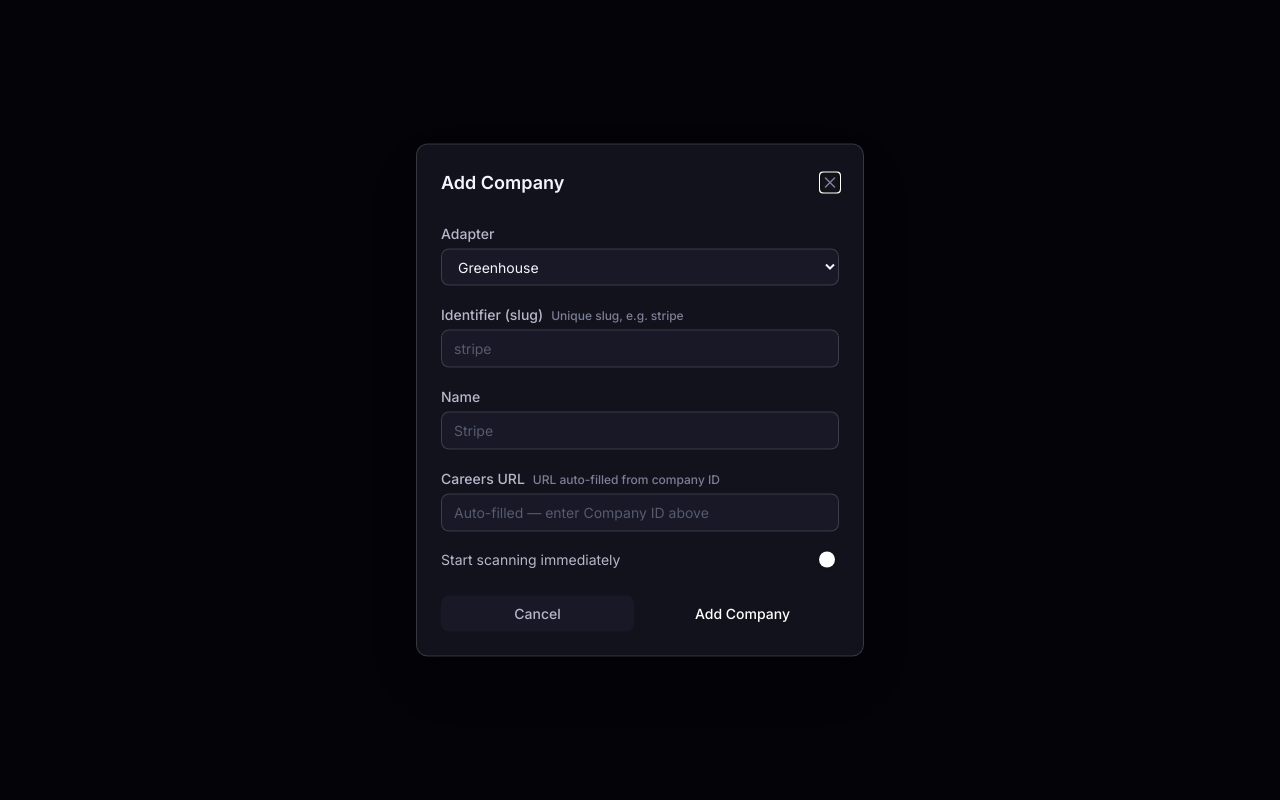
Test case: AddCompanyModal › shows inline error for empty or slash-containing site, accepts alphanumeric+underscore
Select "Workday" in the dropdown at point(640, 267), box top-left (441, 248), bottom-right (839, 286)
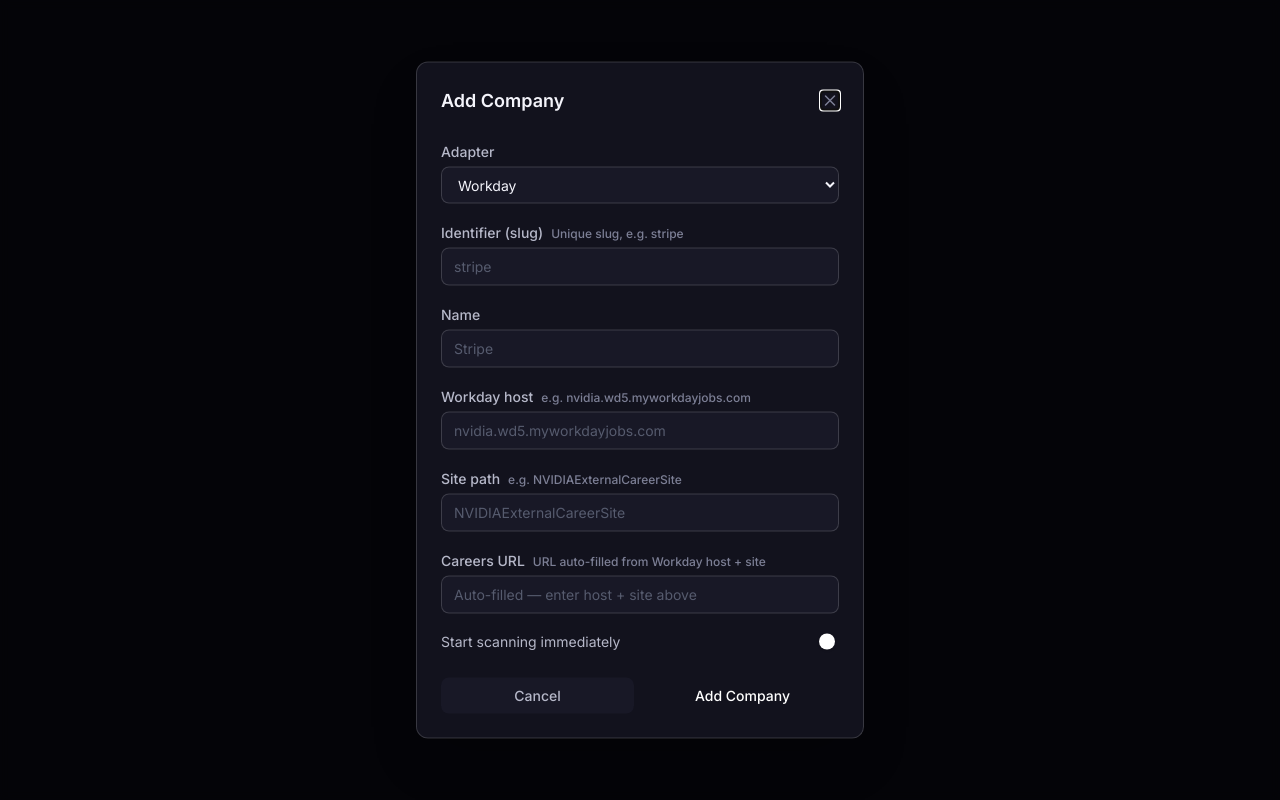
Type "temp" into the field named "Workday site path" at point(640, 512), box top-left (441, 494), bottom-right (839, 532)
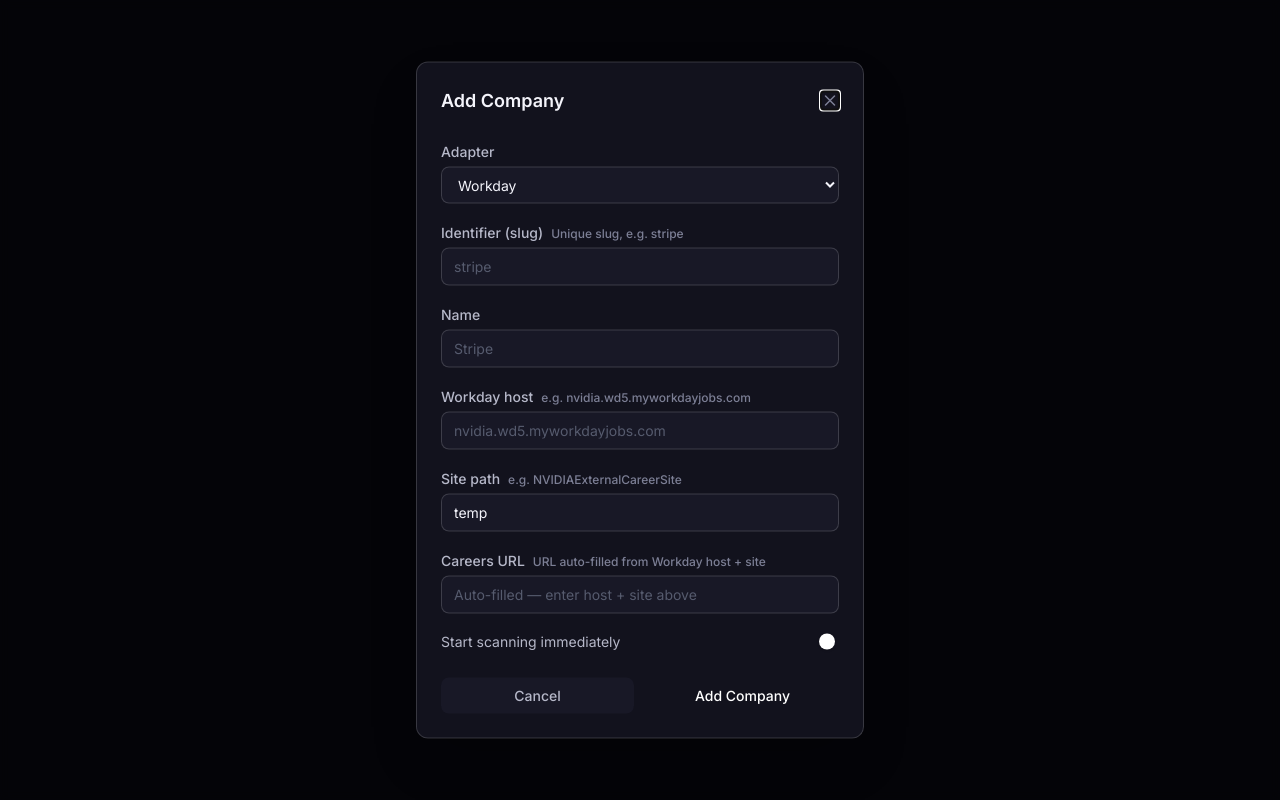
Clear the field named "Workday site path" at point(640, 512), box top-left (441, 494), bottom-right (839, 532)
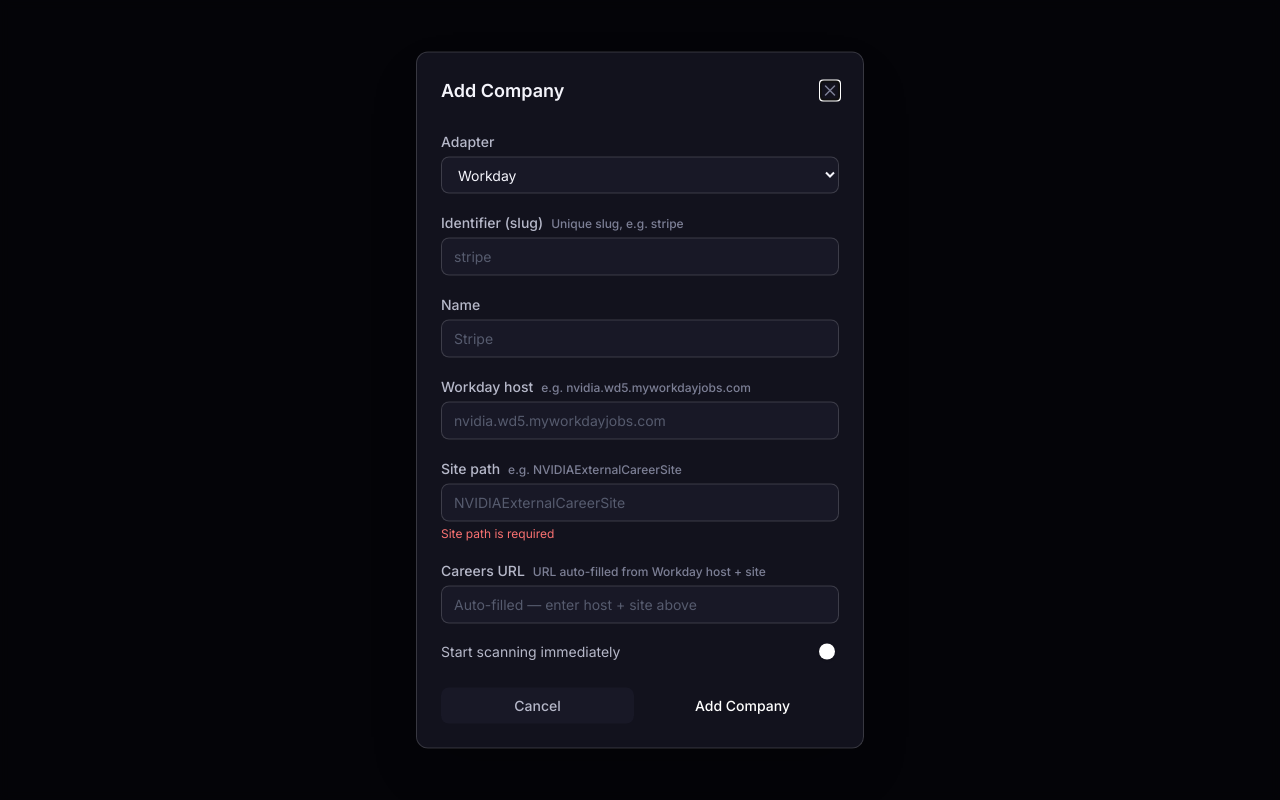
expect the text "Site path is required" is shown: met, box top-left (441, 526), bottom-right (554, 540)
Type "has/slash" into the field named "Workday site path" at point(640, 502), box top-left (441, 484), bottom-right (839, 522)
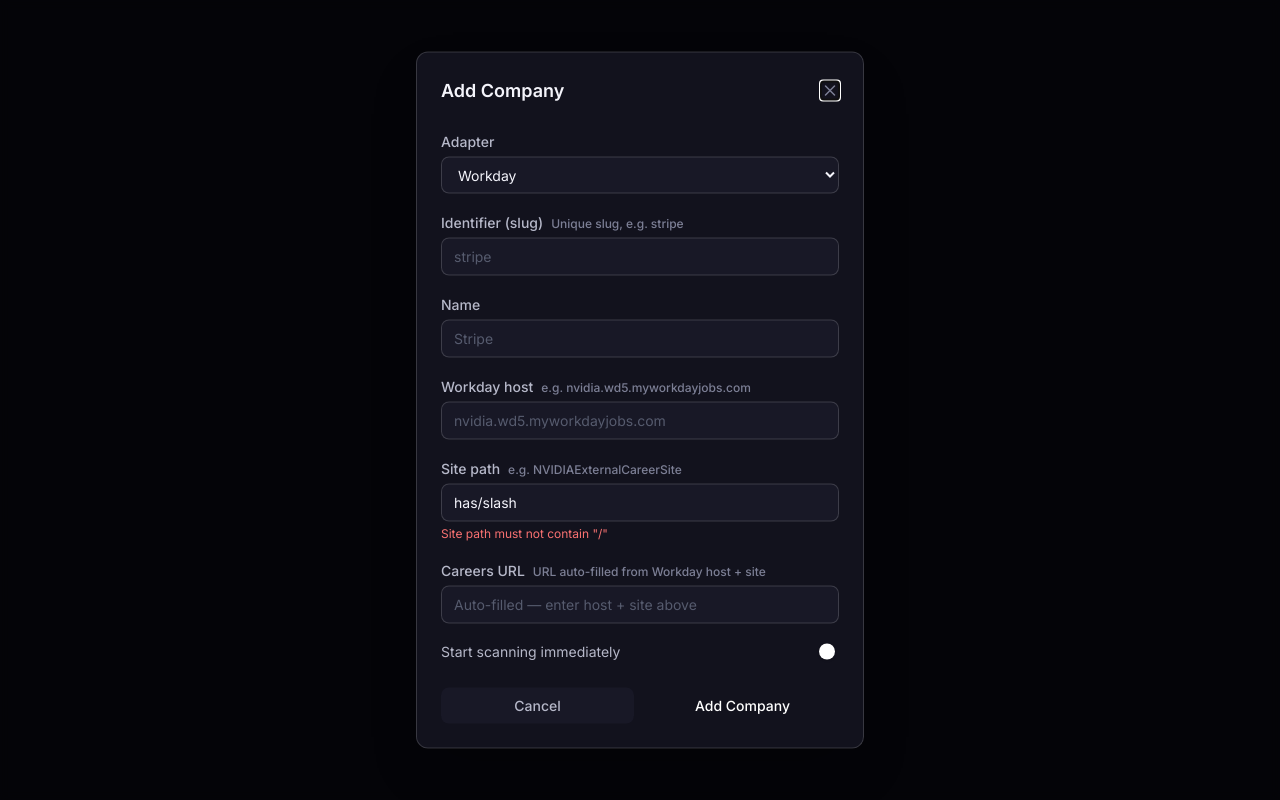
expect the text "Site path must not contain \"/\"" is shown: met, box top-left (441, 526), bottom-right (608, 540)
Replace the text in the field named "Workday site path" with "NVIDIA_External_Career_Site" at point(640, 502), box top-left (441, 484), bottom-right (839, 522)
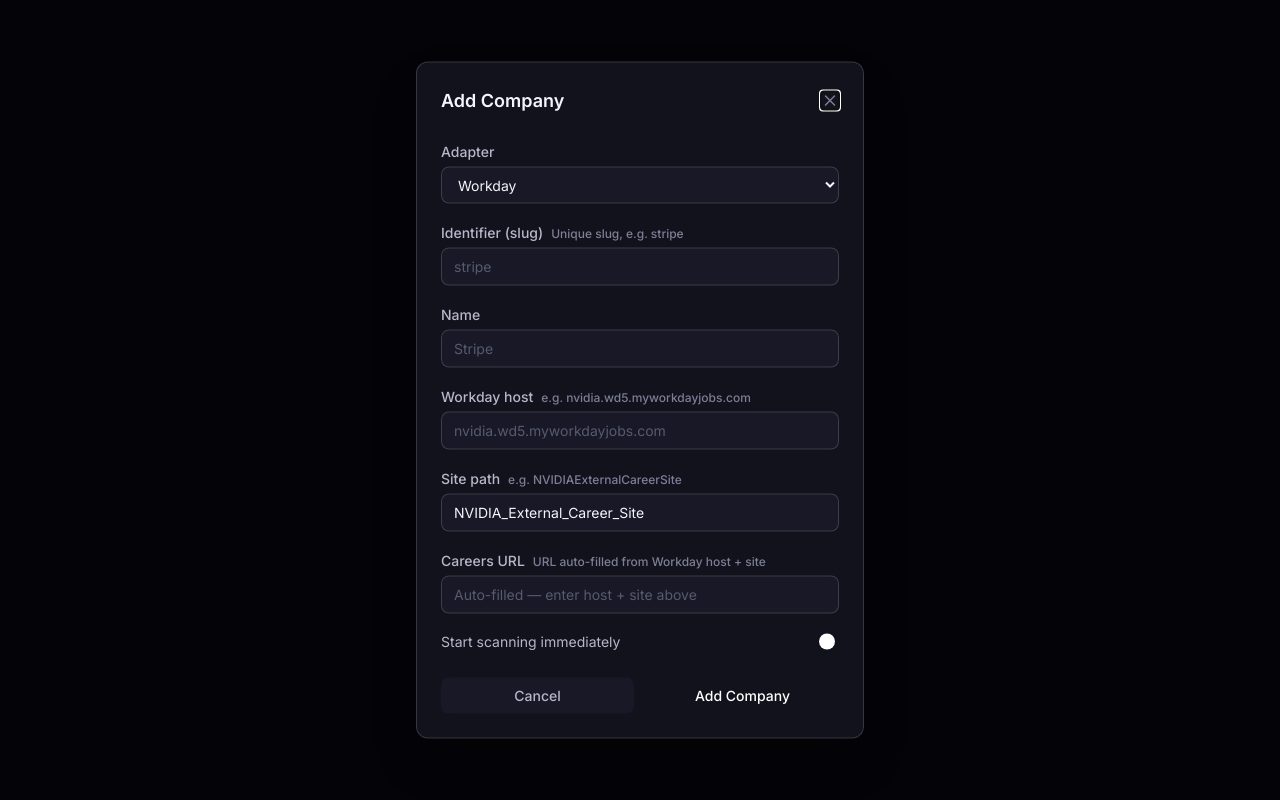
expect the text "Site path is required" is not shown: met
expect the text "must not contain \"/\"" is gone: met
